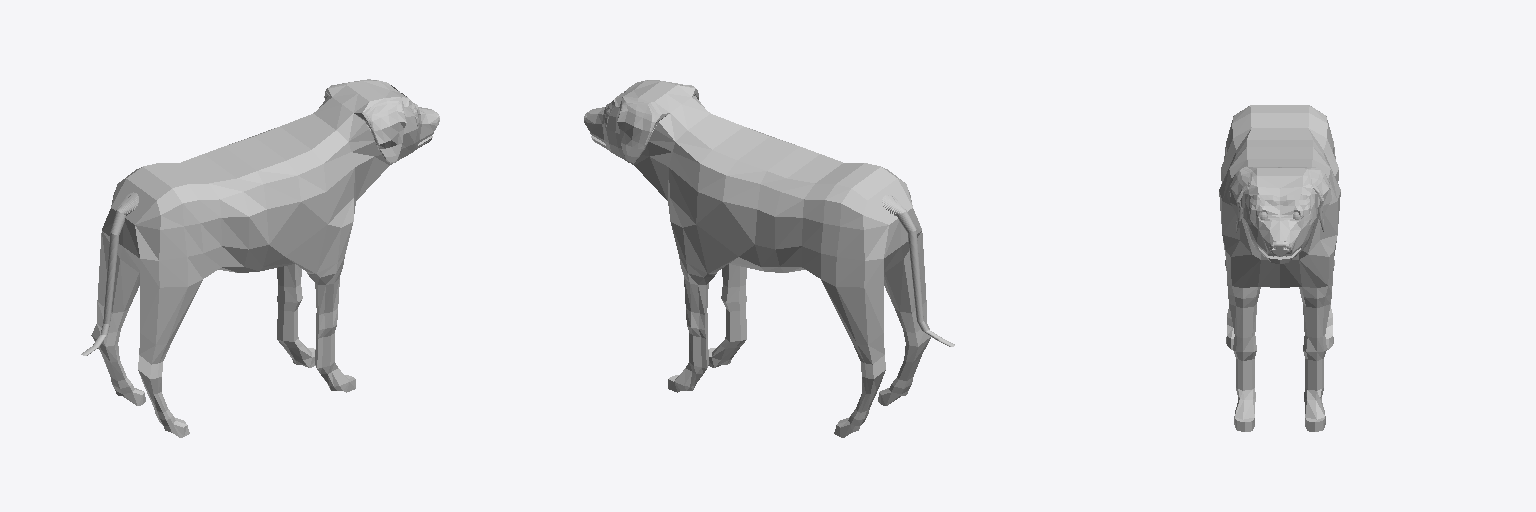
The model's file is fur_tail_dog.obj.
3 views of the same model, side by side, from view 1: azimuth 30°, elevation 25°; view 2: azimuth 150°, elevation 25°; view 3: azimuth 270°, elevation 25° (orthographic).
Visible parts, largest first — view 1: Cube, Cube.002, Cylinder; view 2: Cube, Cube.003, Cylinder; view 3: Cube, Cube.003, Cube.002.
Part boxes in pixels (left/top/right/bottom): Cube: left=91, top=80, right=437, bottom=437; Cube.002: left=354, top=97, right=406, bottom=163; Cylinder: left=81, top=192, right=138, bottom=355; Cube: left=586, top=80, right=930, bottom=437; Cube.003: left=617, top=97, right=669, bottom=163; Cylinder: left=882, top=194, right=954, bottom=346; Cube: left=1219, top=105, right=1340, bottom=431; Cube.003: left=1303, top=167, right=1333, bottom=231; Cube.002: left=1227, top=166, right=1256, bottom=232.
Size of the model in its own units: 6.26 by 4.56 by 1.83.